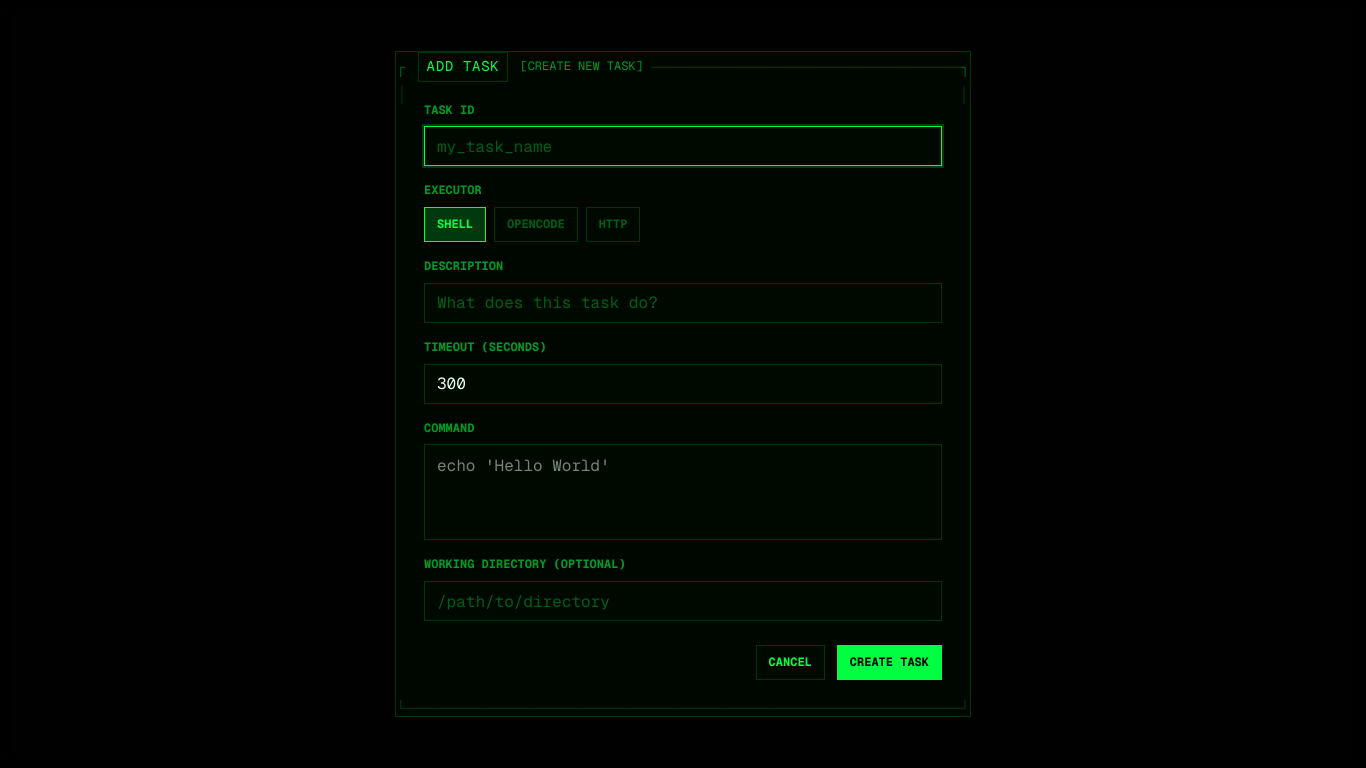
it: AddTaskModal › switches to opencode showing prompt field
The width and height of the screenshot is (1366, 768).
Click the button "opencode": (536, 225) [494,207,578,242]
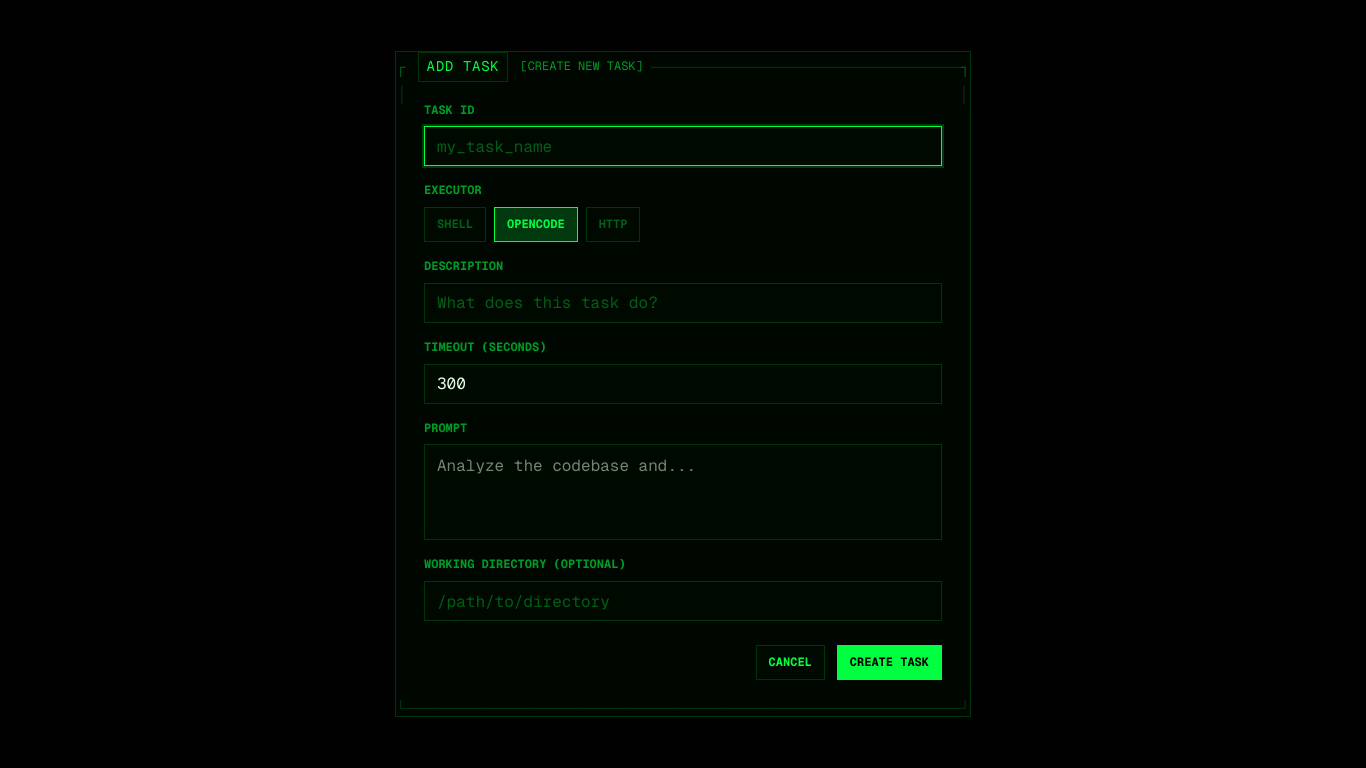
Expected: the text "Prompt" is shown, [424,420,467,436]
Expected: the text box with placeholder "Analyze the codebase and..." is shown, [424,444,942,540]
Expected: the text "Command" is gone
